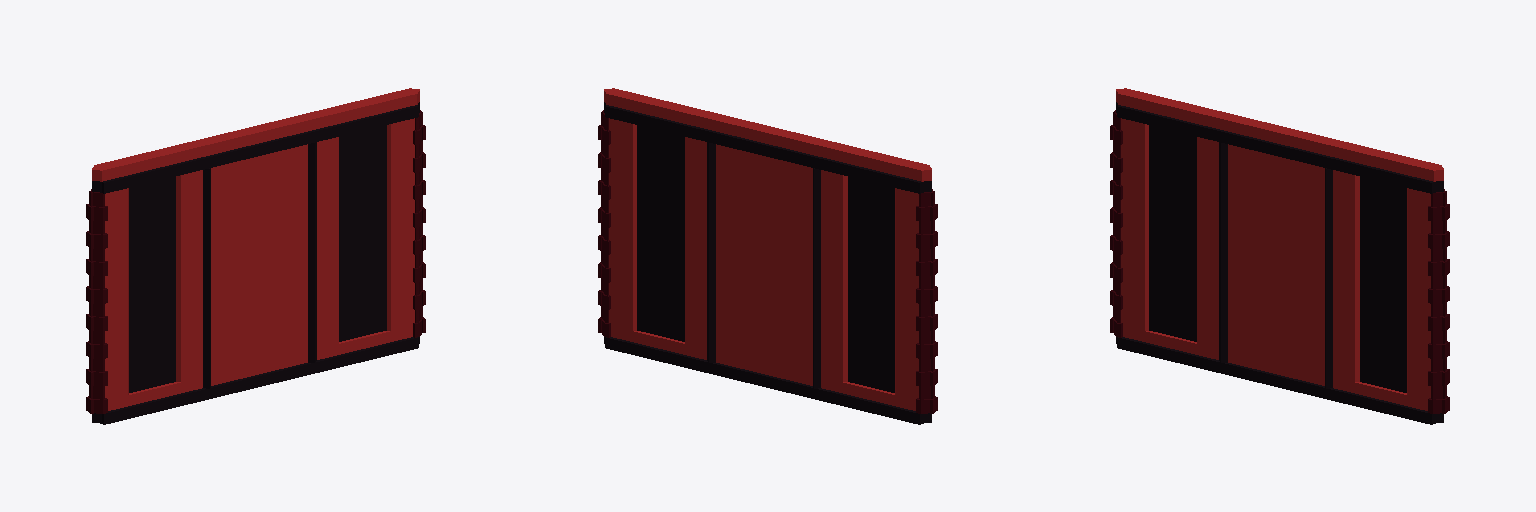
File: NuggetDoor.obj
3 views of the same model, side by side, from view 1: azimuth 30°, elevation 25°; view 2: azimuth 150°, elevation 25°; view 3: azimuth 330°, elevation 25° (orthographic).
Parts seen in each view (by area): view 1: mergedBlocks; view 2: mergedBlocks; view 3: mergedBlocks.
Part boxes in pixels (bbox=[...]): mergedBlocks: bbox=[86, 88, 425, 424]; mergedBlocks: bbox=[598, 88, 937, 424]; mergedBlocks: bbox=[1110, 88, 1449, 424].
Size of the model in its own units: 3.18 by 2.3 by 0.205.